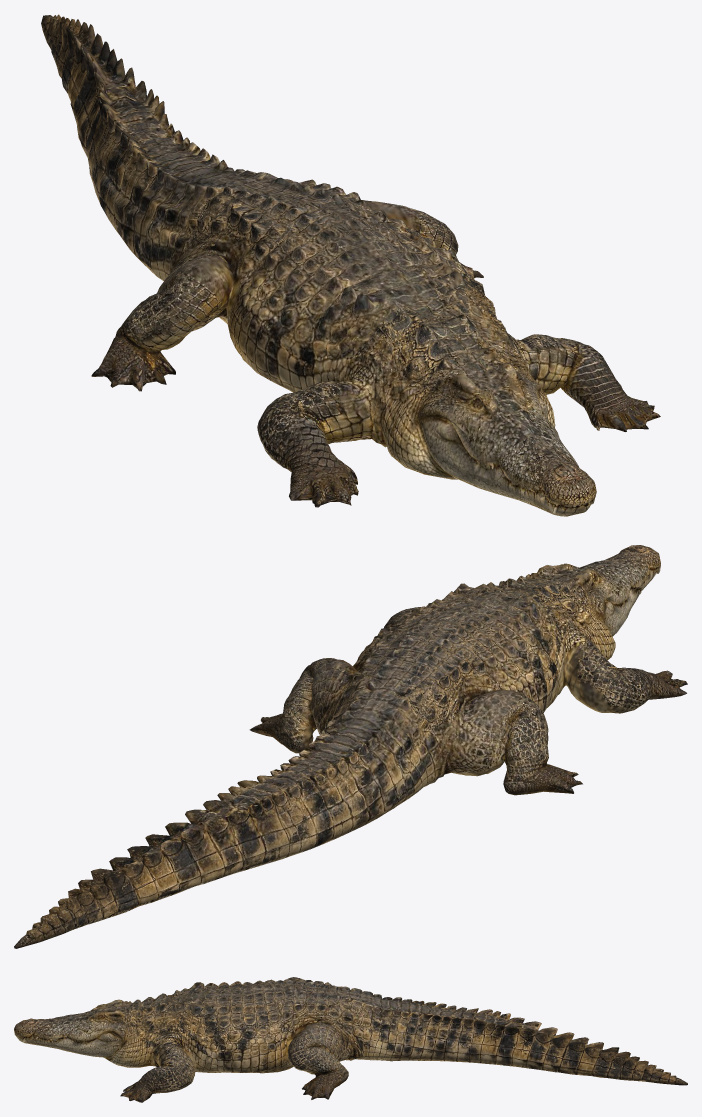
File: crocodile.glb
The picture shows the model from 3 angles, top to bottom: view 1: azimuth 30°, elevation 25°; view 2: azimuth 150°, elevation 25°; view 3: azimuth 270°, elevation 25°; orthographic projection. The views are drawn at different scales.
Visible parts, largest first — view 1: crocodile; view 2: crocodile; view 3: crocodile.
Part boxes in pixels (left/top/right/bottom): crocodile: left=41, top=14, right=660, bottom=516; crocodile: left=14, top=545, right=687, bottom=948; crocodile: left=14, top=977, right=687, bottom=1102.
Bounding box in the file's own units: 1.53 × 0.5364 × 4.5.
1 material, 1 textured.
